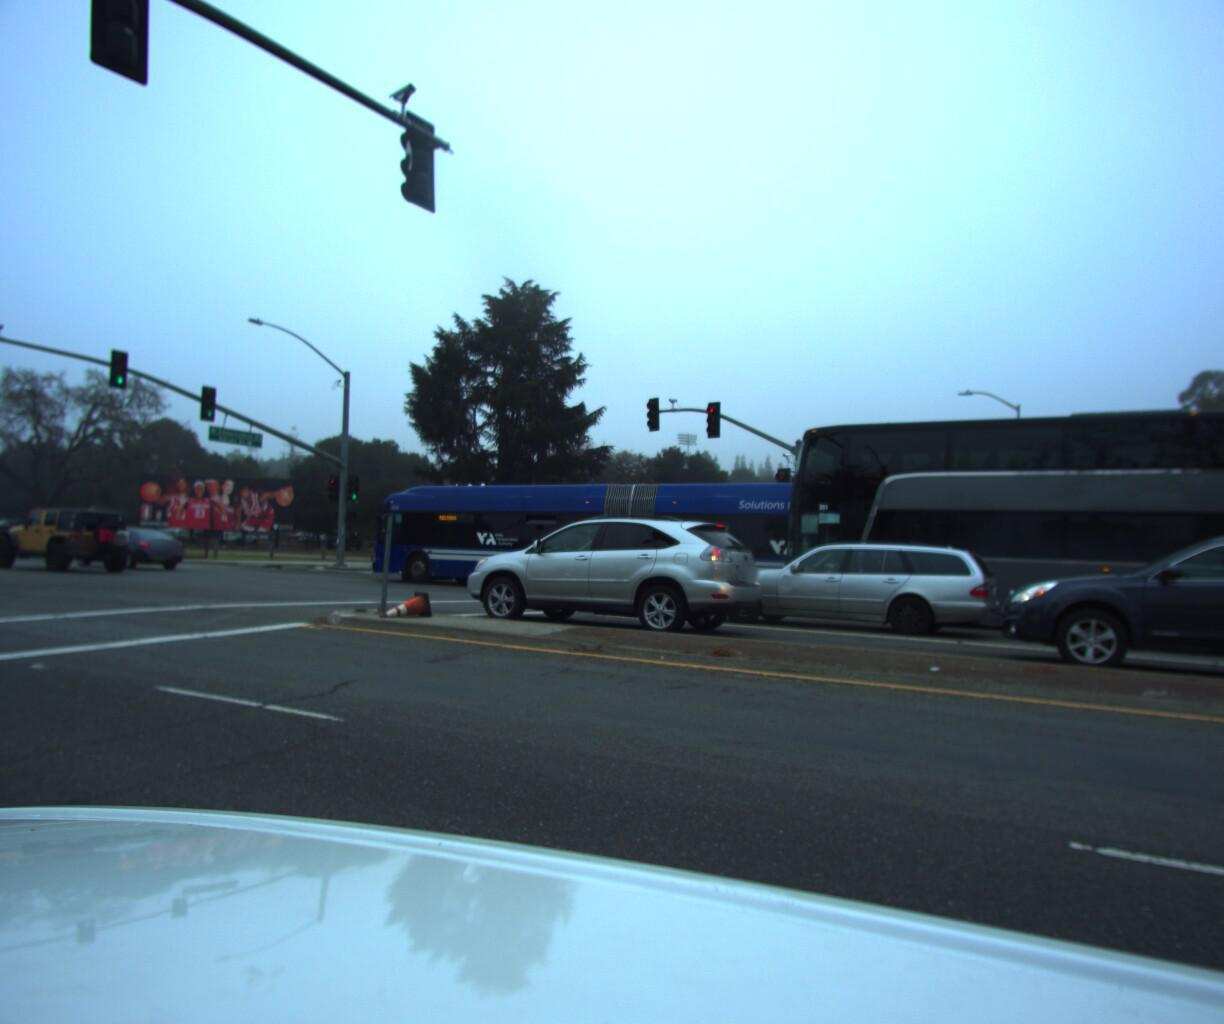bus: (760, 361, 1224, 682), (325, 469, 819, 605)
car: (984, 508, 1224, 734), (440, 505, 777, 649), (703, 531, 1011, 642), (0, 503, 145, 571), (54, 520, 189, 569)
